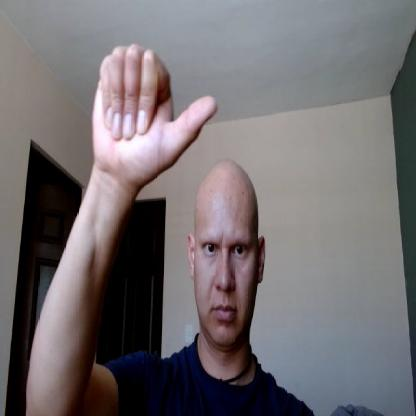A: (92, 42, 218, 180)
